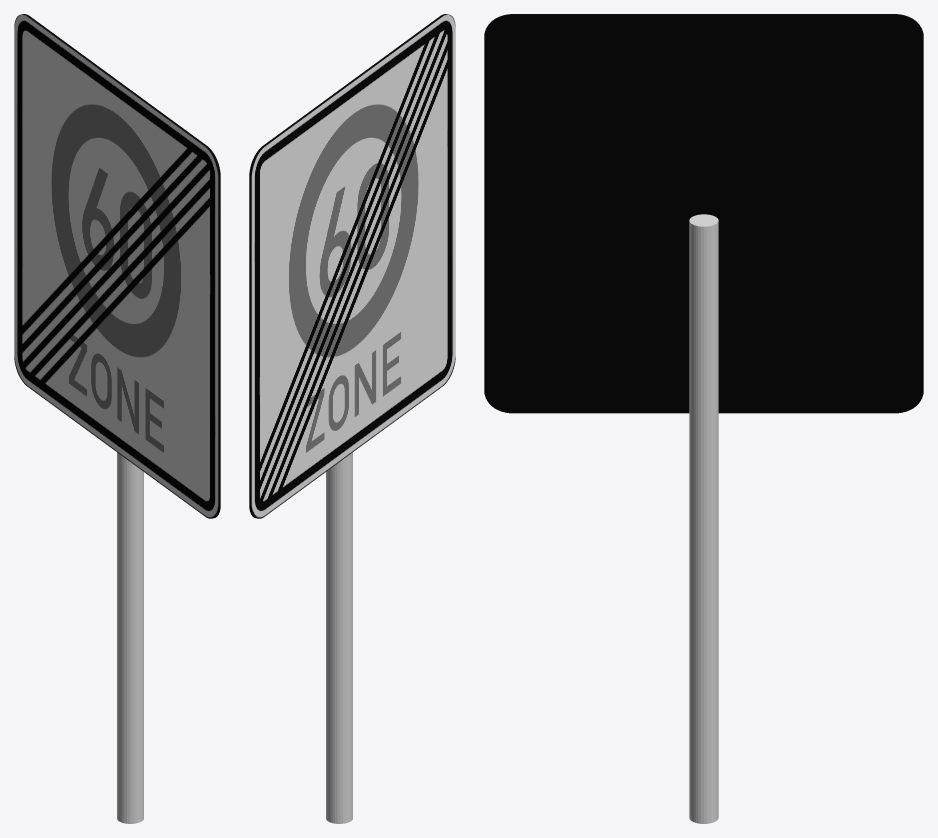
File: speed_limit_zone_60_end_sign.dae
3 renders of one model, left to right at view 1: azimuth 30°, elevation 25°; view 2: azimuth 150°, elevation 25°; view 3: azimuth 270°, elevation 25°, orthographic. The views are drawn at different scales.
Parts seen in each view (by area): view 1: path3678, Cylinder; view 2: path3678, Cylinder; view 3: path3678, Cylinder.
Part boxes in pixels (box(x1,y1,x2,y2)): path3678: box(14, 14, 220, 518); Cylinder: box(117, 452, 143, 823); path3678: box(249, 14, 455, 518); Cylinder: box(326, 452, 352, 823); path3678: box(484, 14, 923, 413); Cylinder: box(689, 214, 718, 823).
Size of the model in its own units: 0.011 by 0.15 by 0.3.
3 materials, 2 textured.
